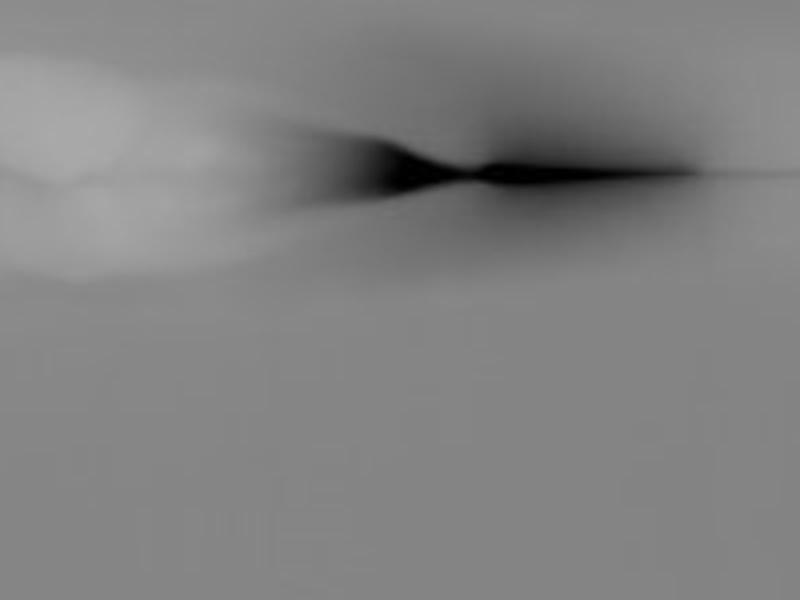defect: (305, 128, 461, 208), (472, 165, 686, 188)
